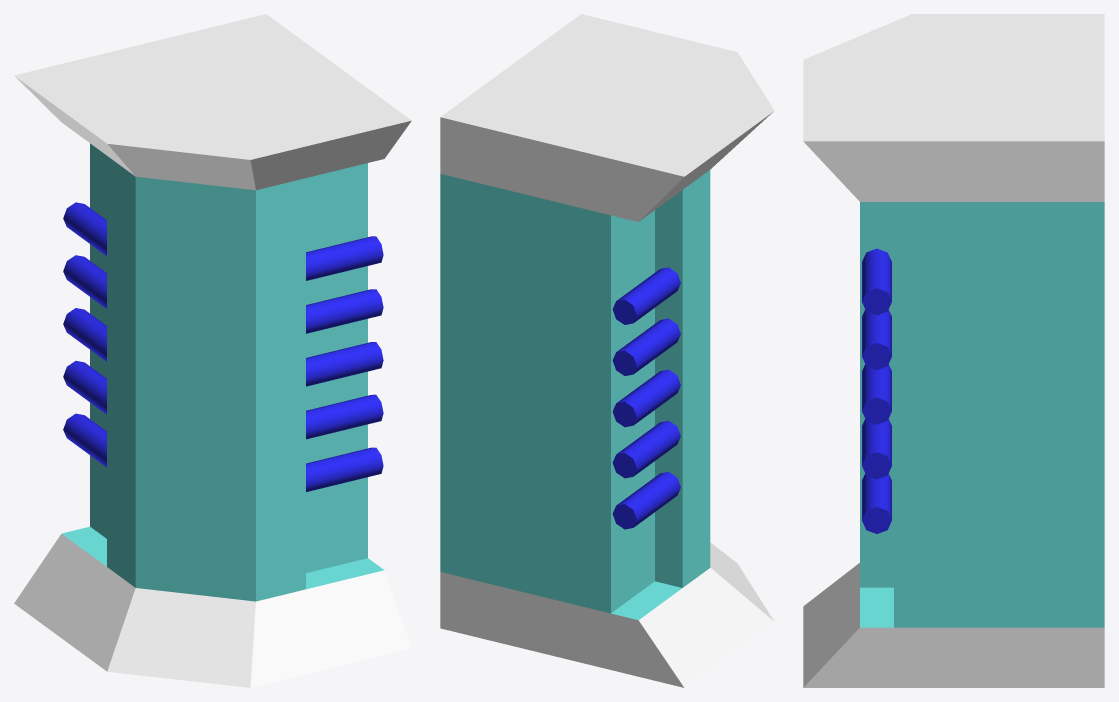
Rendered from WallOpenTurn.fbx.
3 views of the same model, side by side, from view 1: azimuth 30°, elevation 25°; view 2: azimuth 150°, elevation 25°; view 3: azimuth 270°, elevation 25° (orthographic). The views are drawn at different scales.
Visible parts, largest first — view 1: OpenTurn; view 2: OpenTurn; view 3: OpenTurn.
Part boxes in pixels (x1,y1,x2,y2): OpenTurn: [14, 14, 411, 687]; OpenTurn: [440, 14, 774, 687]; OpenTurn: [803, 14, 1104, 687].
Size of the model in its own units: 78.74 by 157 by 78.74.
